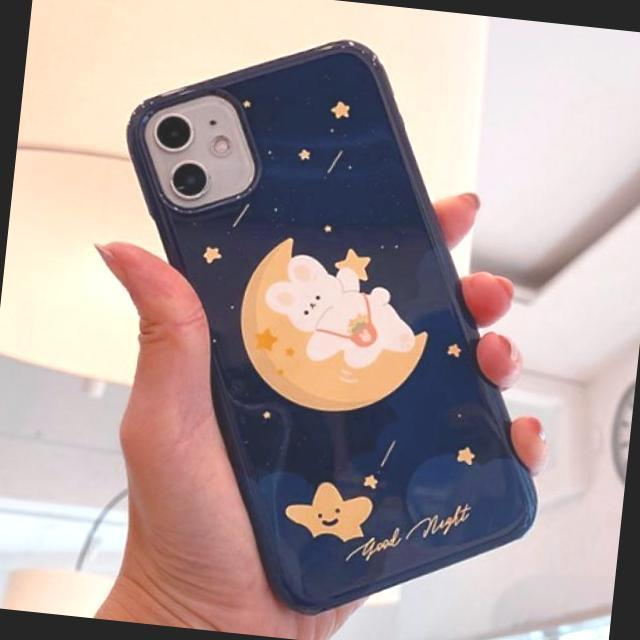phone: (125, 30, 536, 608)
